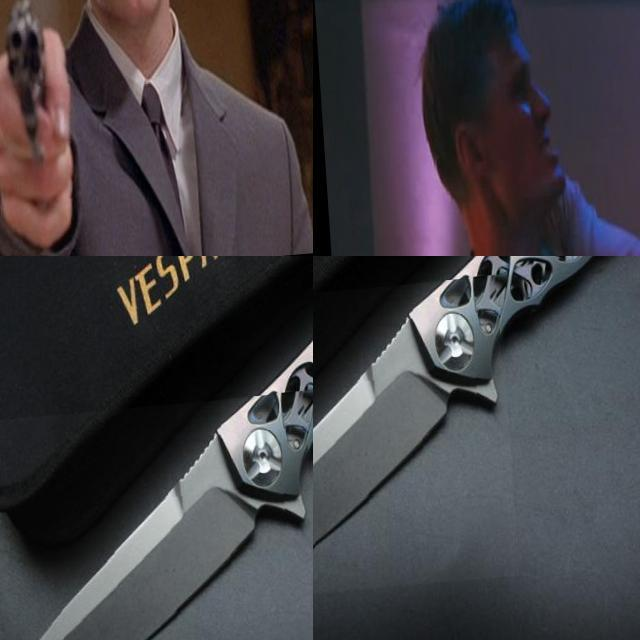-: (0, 399, 313, 640), (313, 283, 511, 606)
gun-knife-thesis - v11 Yolov5 augmented: (0, 0, 75, 256)
